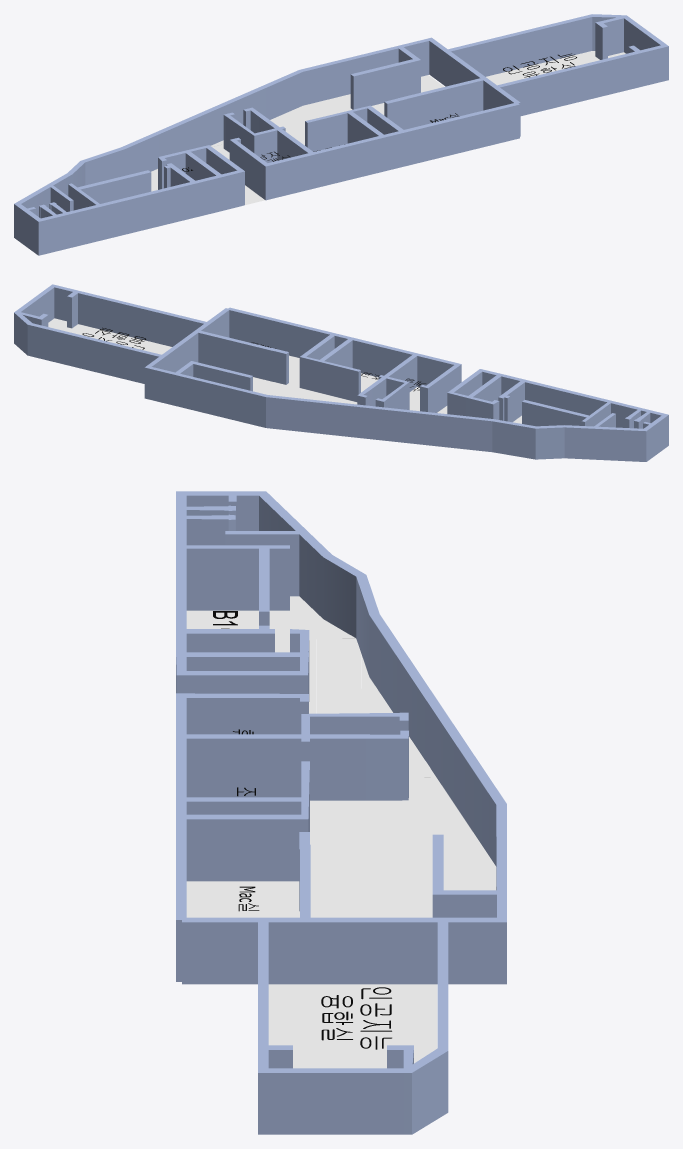
The model's file is B1floor.glb.
The picture shows the model from 3 angles, top to bottom: view 1: azimuth 30°, elevation 25°; view 2: azimuth 150°, elevation 25°; view 3: azimuth 270°, elevation 25°; orthographic projection. The views are drawn at different scales.
Visible parts, largest first — view 1: Layer:0, Box001, Box002, TextPlus007; view 2: Layer:0, Box001, Box002, Box009, TextPlus007; view 3: Layer:0, Box001, Box002, Box009, Box052, Box029, TextPlus007, Box030, Box010, Box050.
Boxes of the visible parts, bbox=[...] form: Layer:0: bbox=[14, 14, 668, 255]; Box001: bbox=[297, 75, 444, 118]; Box002: bbox=[486, 52, 599, 85]; TextPlus007: bbox=[503, 53, 576, 77]; Layer:0: bbox=[14, 284, 668, 461]; Box001: bbox=[253, 355, 320, 399]; Box002: bbox=[65, 324, 171, 354]; Box009: bbox=[313, 373, 378, 404]; TextPlus007: bbox=[82, 327, 146, 349]; Layer:0: bbox=[176, 491, 506, 1134]; Box001: bbox=[186, 859, 496, 917]; Box002: bbox=[268, 984, 434, 1068]; Box009: bbox=[310, 797, 426, 859]; Box052: bbox=[316, 637, 350, 713]; Box029: bbox=[186, 610, 258, 628]; TextPlus007: bbox=[321, 987, 391, 1049]; Box030: bbox=[269, 607, 306, 652]; Box010: bbox=[424, 829, 465, 861]; Box050: bbox=[305, 608, 316, 713].
Size of the model in its own units: 2.68 by 0.1438 by 0.6453.
